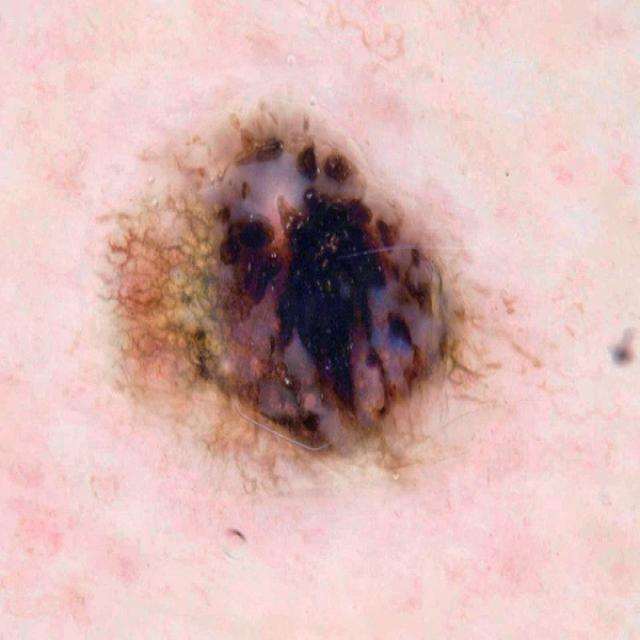Benign-Keratosis-like-Lesions-BKL-: (109, 105, 464, 478)
